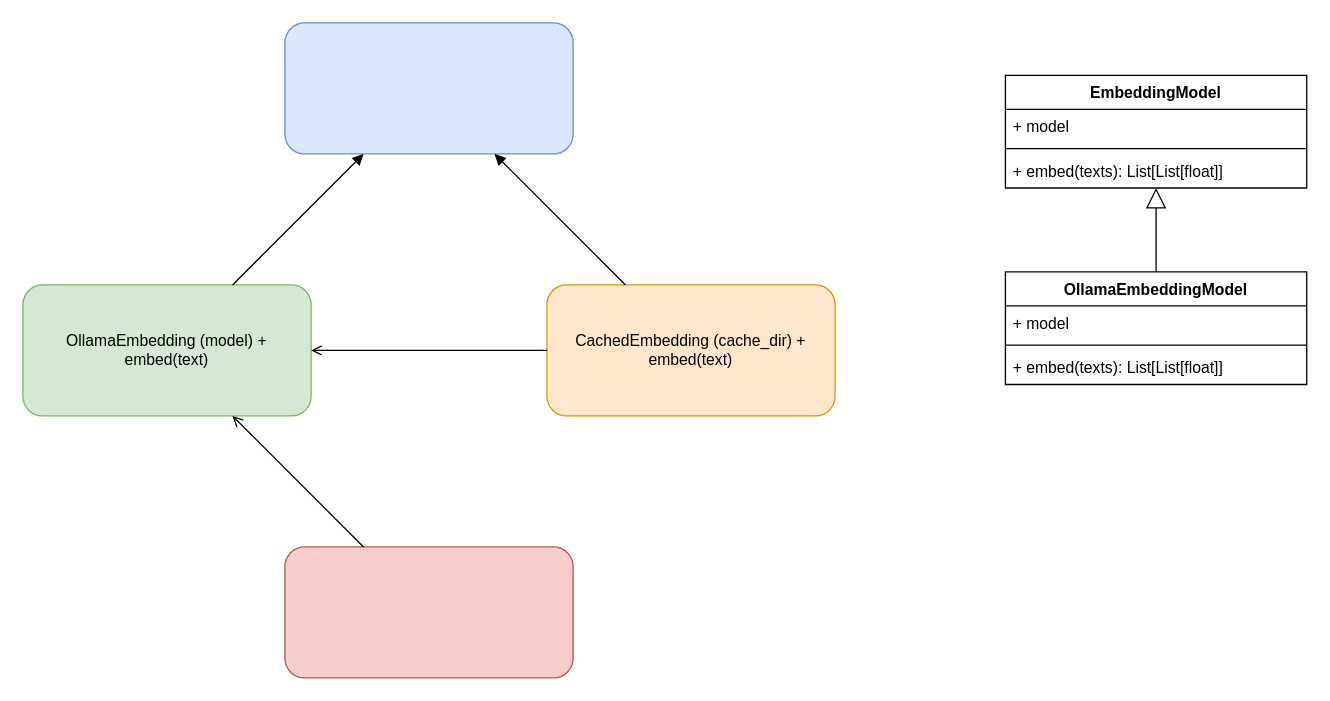
Some shapes in this 1330 by 701 pixel diagram are drawn without their labels. The shapes that lost their labels are listed below. From the top down, each one's box as (x1, y1, x2, y2) in pixels, then its label:
(284, 22, 573, 154): EmbeddingModel (ABC) + embed(text) + embed_batch(texts)
(284, 546, 573, 678): EmbeddingFactory + create(provider, model)
